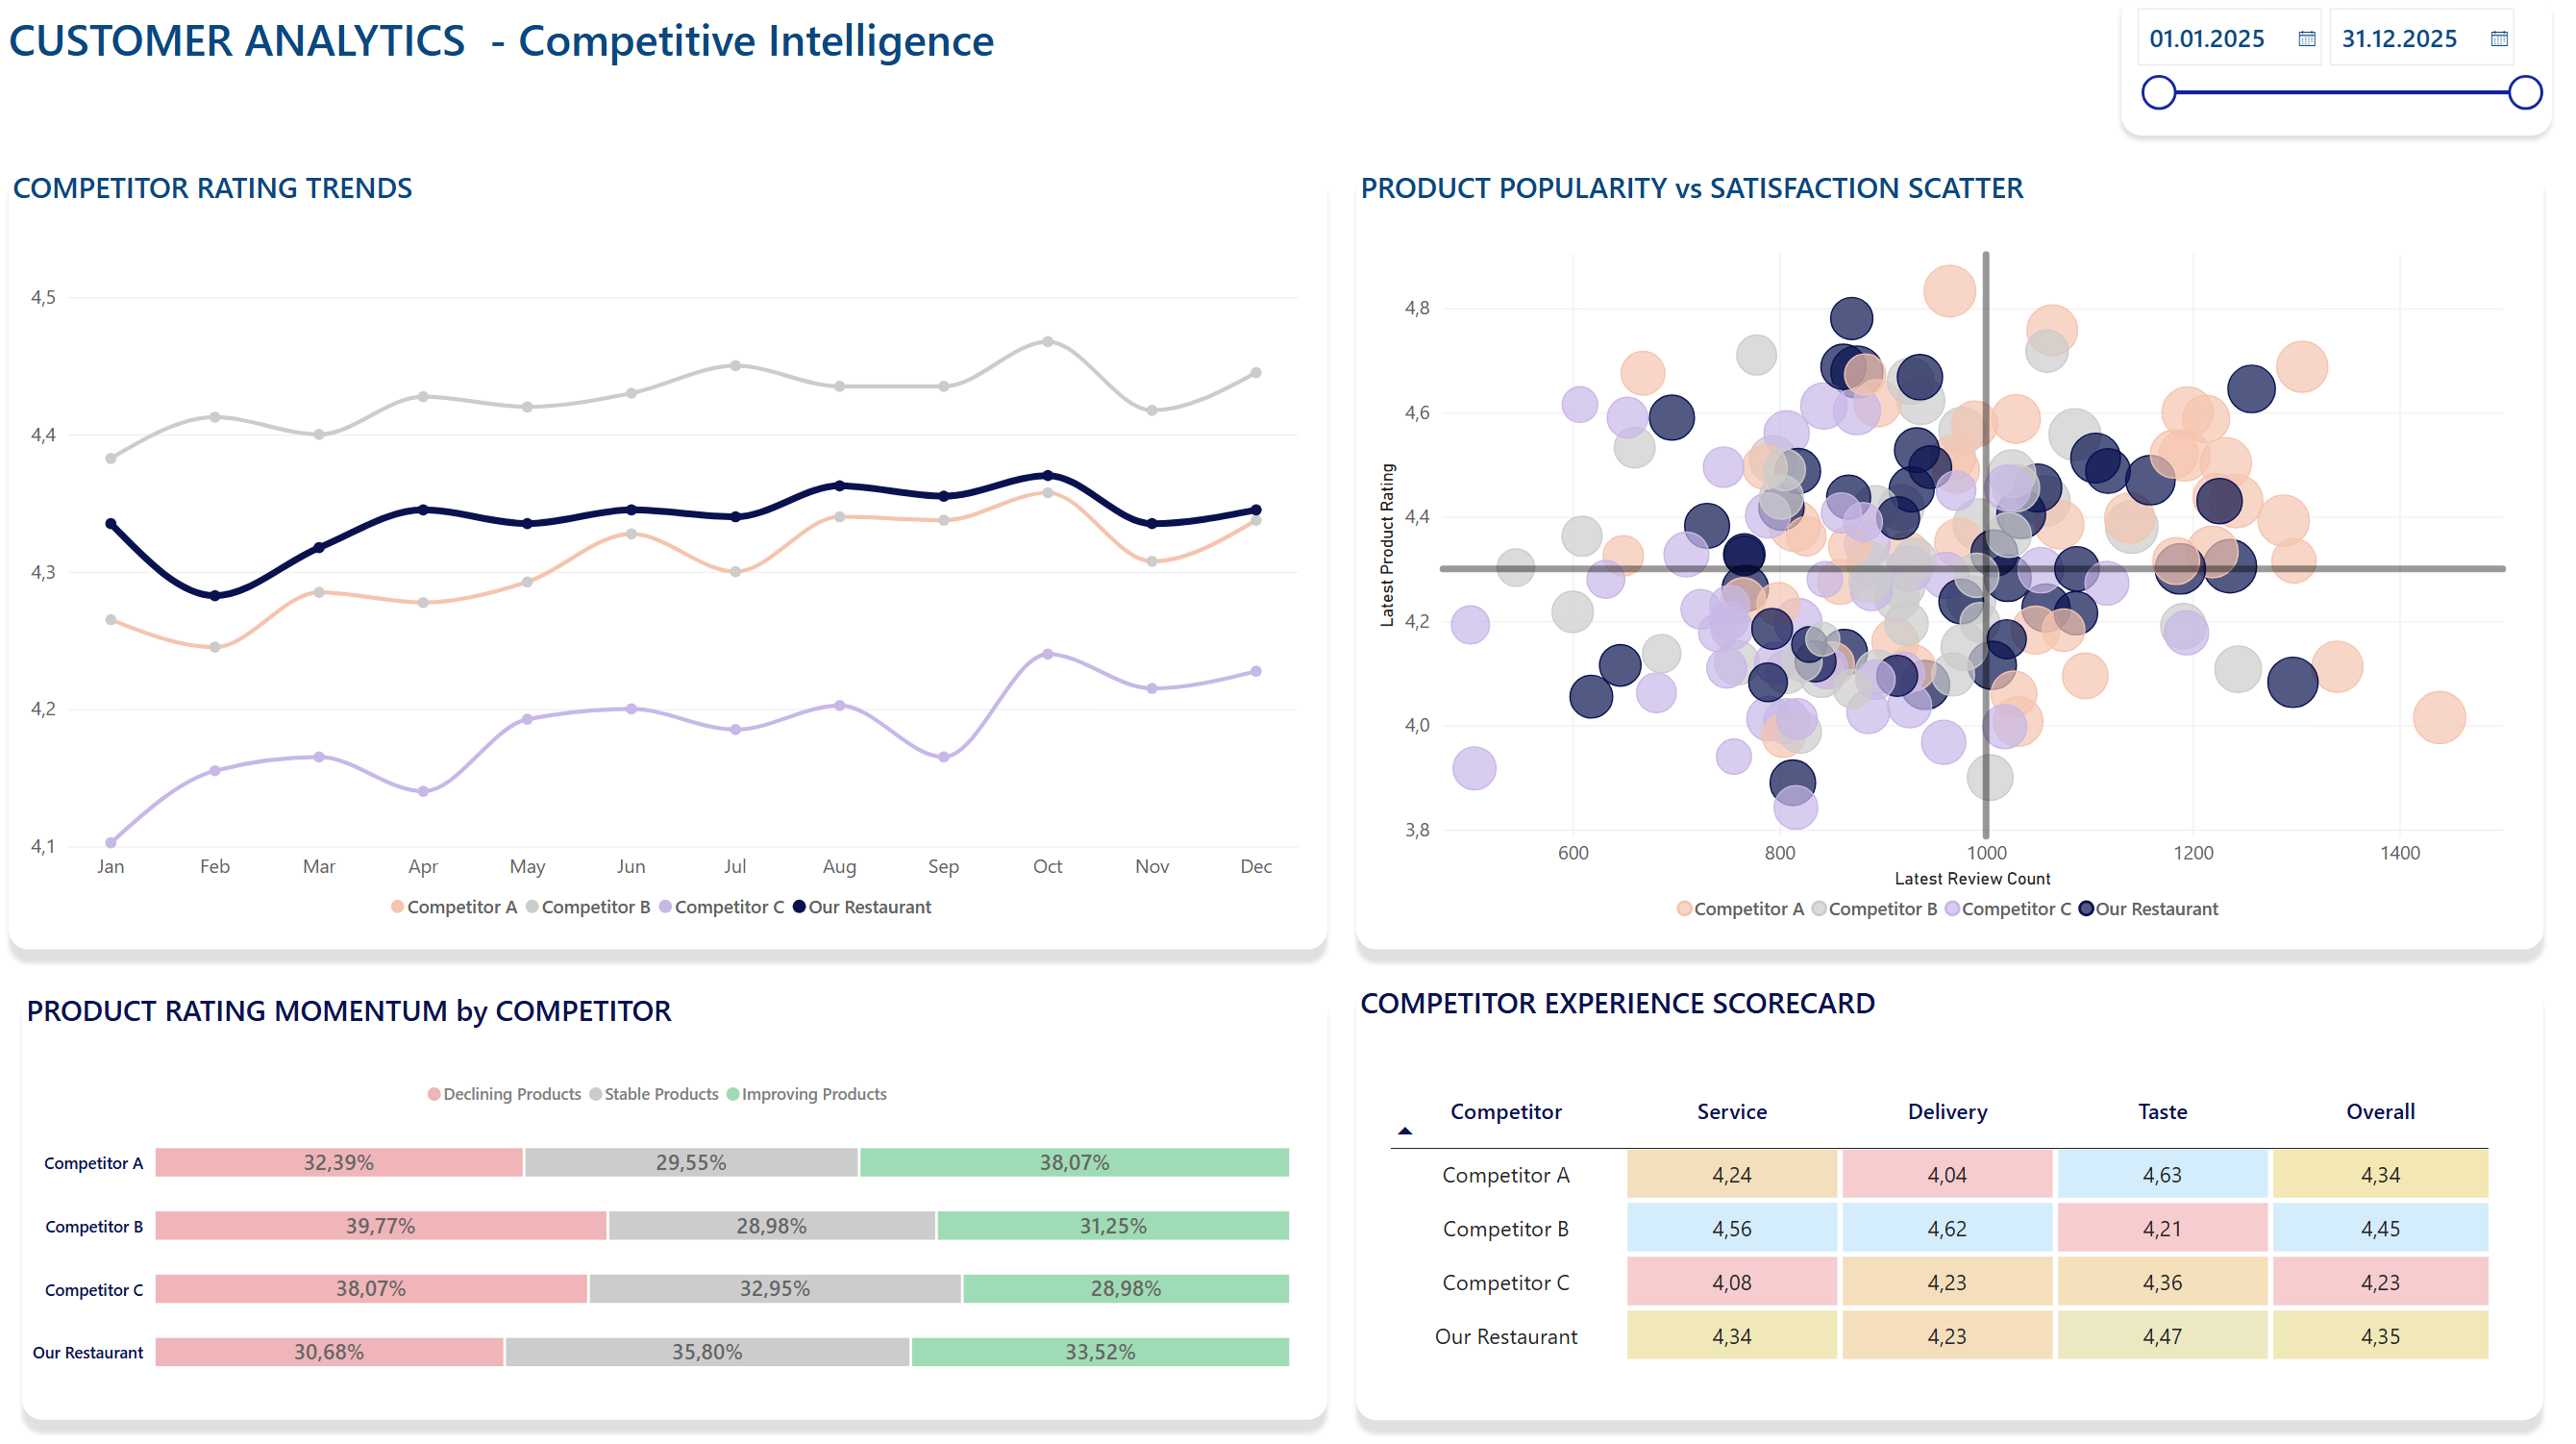

Layout of this report page (visuals, bound fields, positions):
{"tool":"powerbi","page":{"name":"Competitors","canvas":[1920,1080],"ordinal":4},"visuals":[{"type":"textbox","box":[10.4,10.4,753.4,66],"z":0},{"type":"textbox","box":[10.5,124,980,584],"z":0,"group":"g1"},{"type":"textbox","box":[1012.5,124,882.7,583.9],"z":0,"group":"g3"},{"type":"textbox","box":[1012,730,882,328],"z":0,"group":"g2"},{"type":"textbox","box":[19.9,736,970.1,322],"z":0,"group":"g4"},{"type":"slicer","title":"Date","fields":{"Values":["Date.Date"]},"box":[1579.4,0,320,103.3],"z":1000},{"type":"scatterChart","title":"Product Popularity vs Satisfaction Scatter","fields":{"Category":["public product.product_id"],"Series":["public competitors.competitor_name"],"Size":["public competitors.Latest Like Count"],"X":["public competitors.Latest Review Count"],"Y":["public competitors.Latest Product Rating"]},"box":[1012,170,884,538],"z":1000,"group":"g3"},{"type":"lineChart","title":"Competitor Rating Trends","fields":{"Category":["Date.Month_Short_EN"],"Series":["public competitors.competitor_name"],"Y":["public competitors.Latest Overall Rating"]},"box":[10,198,974,508],"z":1000,"group":"g1"},{"type":"hundredPercentStackedBarChart","fields":{"Category":["public competitors.competitor_name"],"Y":["public product.Declining Products","public product.Stable Products","public product.Improving Products"]},"box":[10,788,967.9,268],"z":1000,"group":"g4"},{"type":"tableEx","fields":{"Values":["public competitors.competitor_name","public competitors.Latest Service Rating","public competitors.Latest Delivery Rating","public competitors.Latest Taste Rating","public competitors.Latest Overall Rating"]},"box":[1020.1,796,867.8,240],"z":1000,"group":"g2"},{"type":"group","id":"g1","title":"Sales Platform","box":[10,124,980.5,584],"z":2000},{"type":"group","id":"g2","title":"Sales Platform","box":[1012,730,882,328],"z":3000},{"type":"group","id":"g3","title":"Sales Platform","box":[1012,124,884,584],"z":4000},{"type":"group","id":"g4","title":"Sales Platform","box":[10,736,980,322],"z":5001}]}

Visuals, with their boxes in screenshot pixels (x1, y1, x2, y2), scaled from the page's 1920x1080 canvas onto the 2576x1444 screenshot:
textbox: [14,13,1025,102]
textbox: [14,165,1329,947]
textbox: [1358,165,2542,947]
textbox: [1358,976,2541,1414]
textbox: [27,984,1328,1414]
"Date" slicer: [2119,0,2548,138]
"Product Popularity vs Satisfaction Scatter" scatterChart: [1358,227,2543,947]
"Competitor Rating Trends" lineChart: [13,264,1321,944]
hundredPercentStackedBarChart - public competitors.competitor_name x public product.Declining Products: [13,1054,1312,1412]
tableEx - public competitors.competitor_name x public competitors.Latest Service Rating: [1369,1064,2533,1385]
"Sales Platform" group: [13,165,1329,947]
"Sales Platform" group: [1358,976,2541,1414]
"Sales Platform" group: [1358,165,2543,947]
"Sales Platform" group: [13,984,1328,1414]
